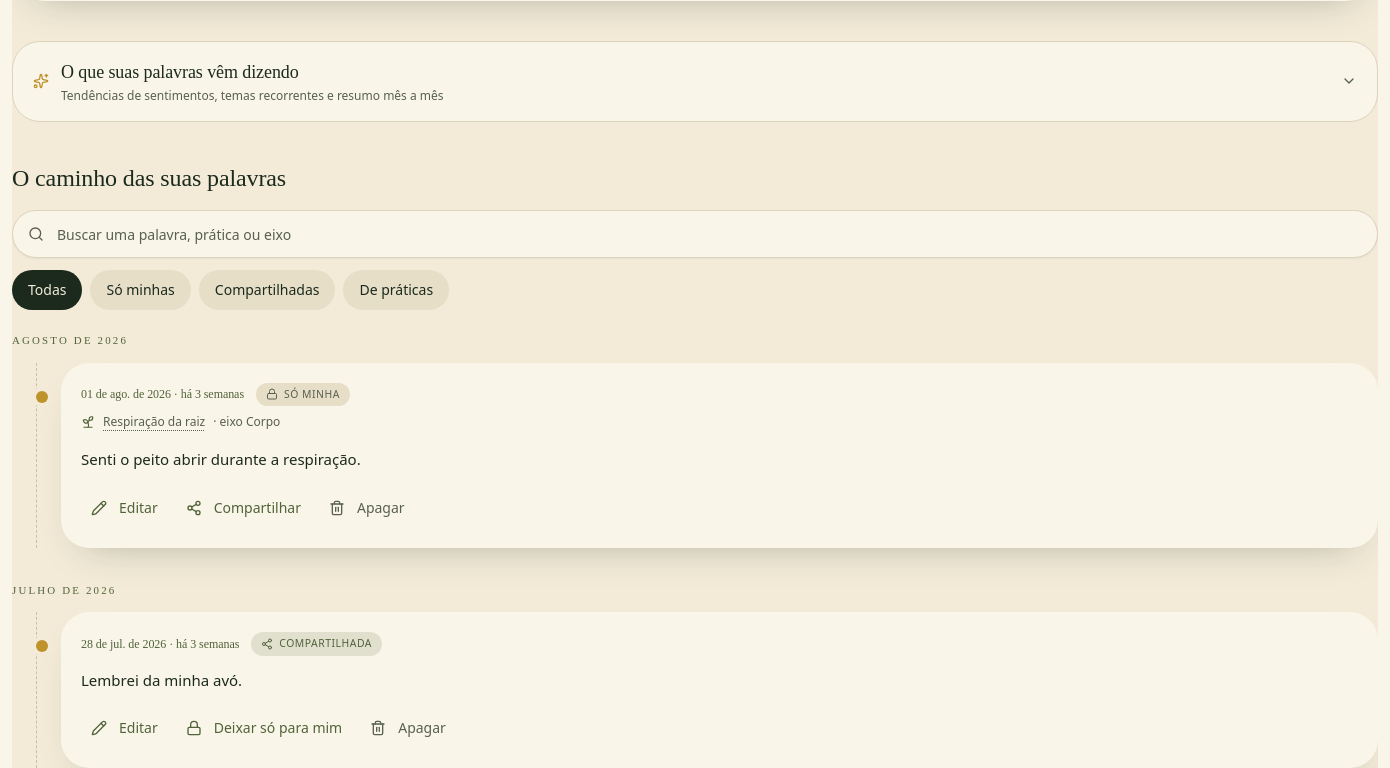
Diário de reflexão — privacidade e ações › pede confirmação antes de apagar
Later steps or results of the test are not shown.
(page scrolled)
expect the text "Lembrei da minha avó." is shown: met, box [81,670,242,690]
Click the button "Apagar" below "Respiração da raiz" at (367, 508), box [319,488,415,528]
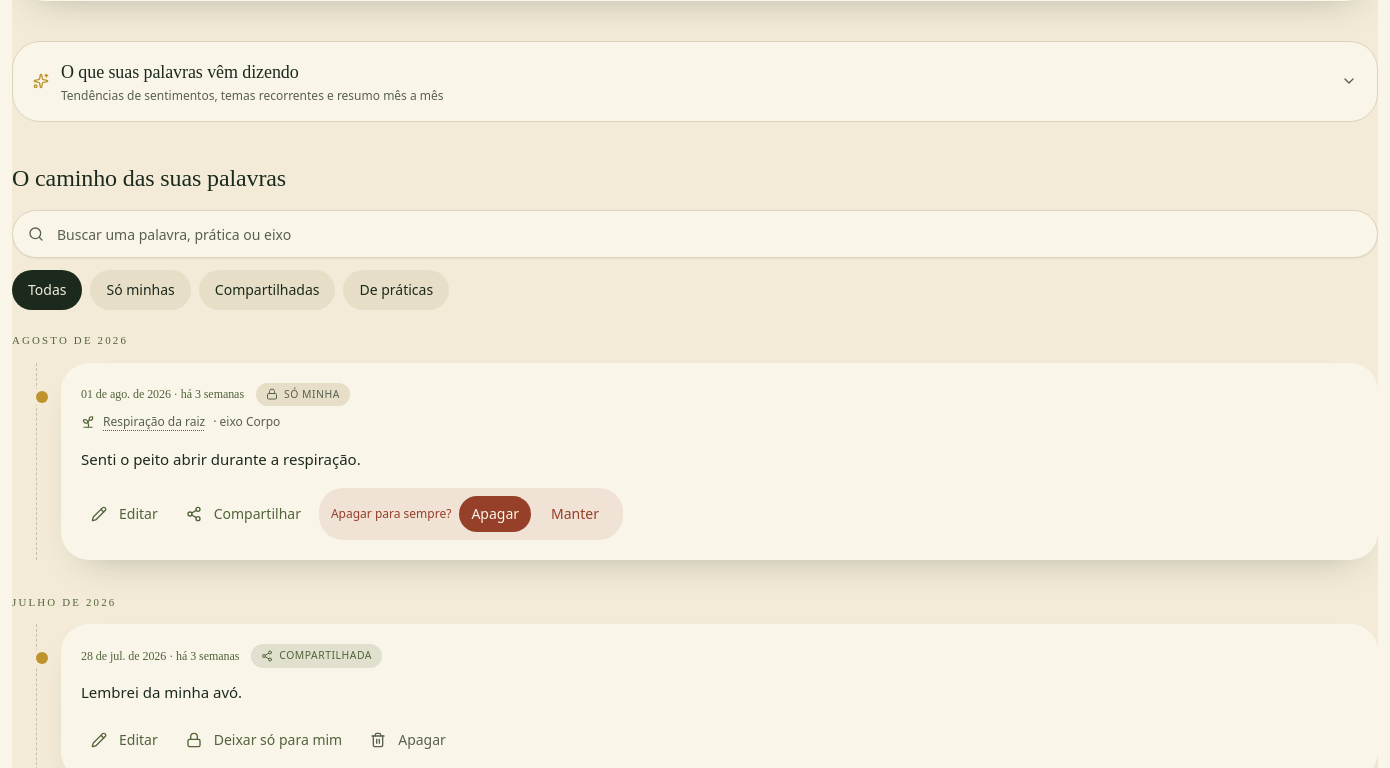
expect the text "Apagar para sempre?" is shown: met, box [331,505,451,522]
